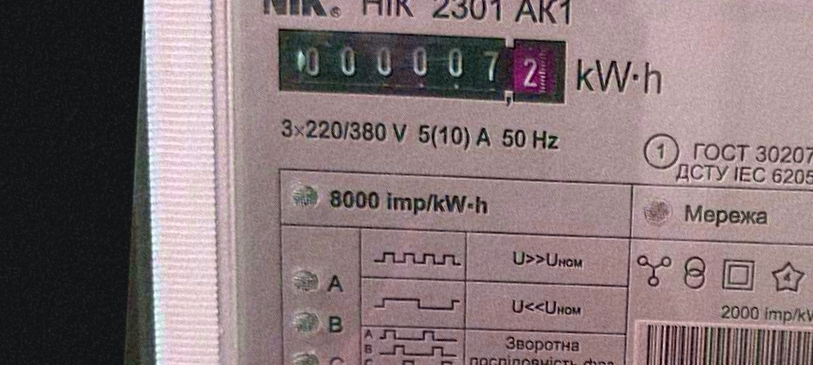0: (369, 39, 394, 78), (441, 41, 464, 78), (407, 41, 429, 79), (298, 40, 321, 76), (335, 40, 357, 76)
2: (516, 52, 539, 89)
7: (477, 44, 500, 83)
screen: (266, 16, 574, 112)
